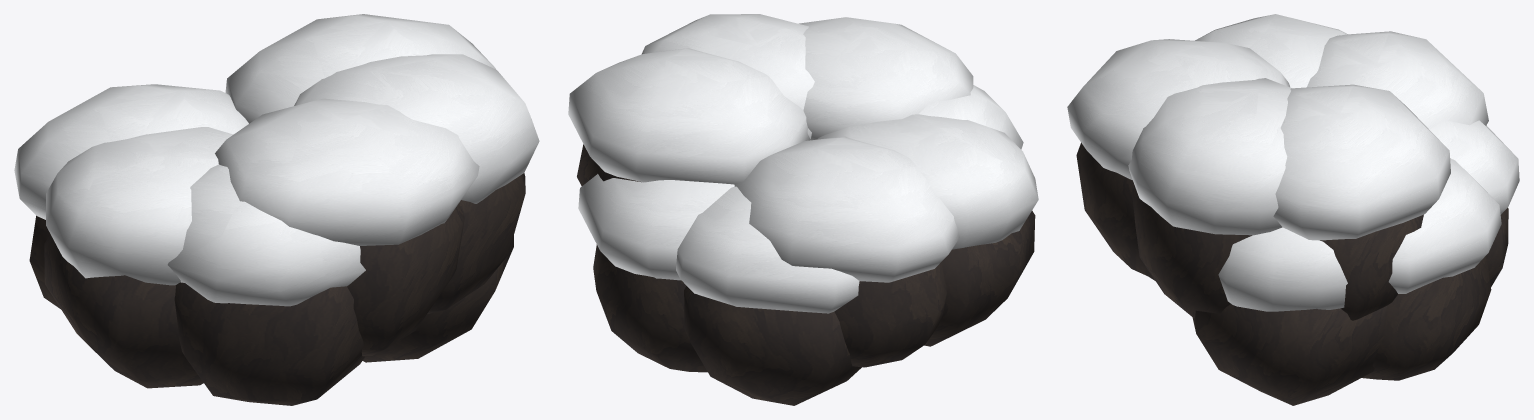
File: bush.glb
The picture shows the model from 3 angles, left to right: view 1: azimuth 30°, elevation 25°; view 2: azimuth 150°, elevation 25°; view 3: azimuth 270°, elevation 25°; orthographic projection. The views are drawn at different scales.
Parts seen in each view (by area): view 1: bush; view 2: bush; view 3: bush.
Boxes of the visible parts, <box> form: bush: <box>14,14,539,405</box>; bush: <box>568,14,1038,405</box>; bush: <box>1067,14,1519,405</box>.
Size of the model in its own units: 1.54 by 0.9857 by 1.39.
Materials: 1 (1 with a texture image).
